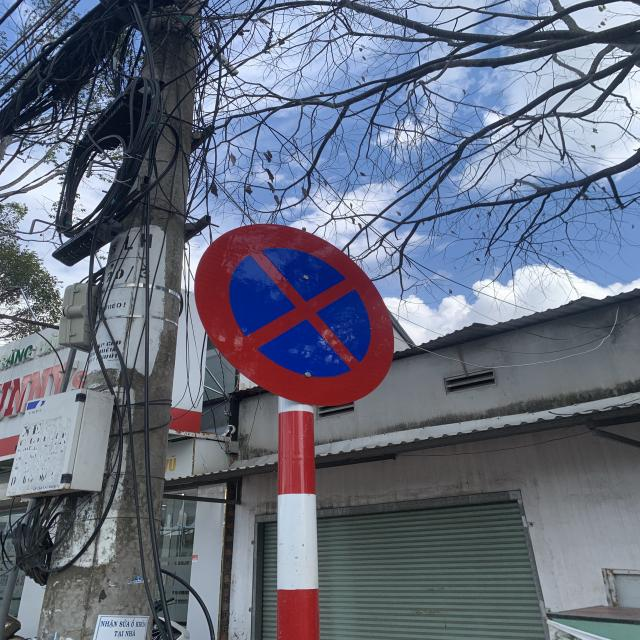Cam_Dung_Va_Dau_Xe: (196, 222, 394, 409)
